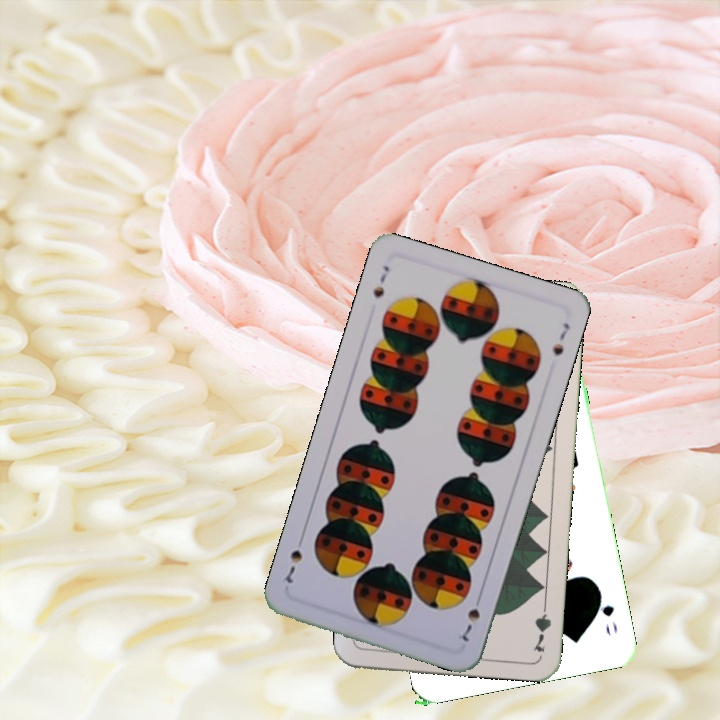G7: (529, 596, 554, 654)
GO: (593, 584, 620, 639)
S7: (458, 590, 485, 645), (369, 261, 392, 300)
